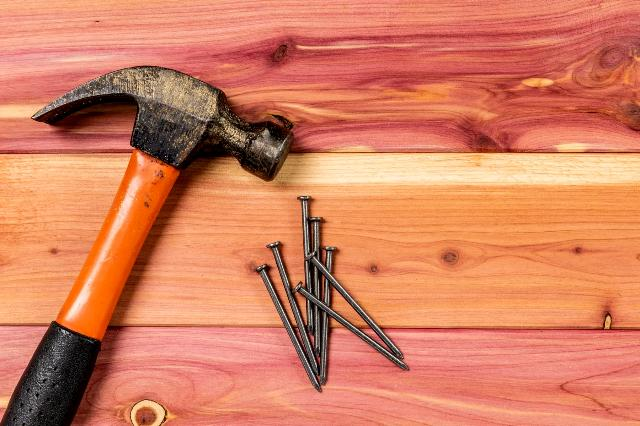hammer: (0, 63, 297, 426)
